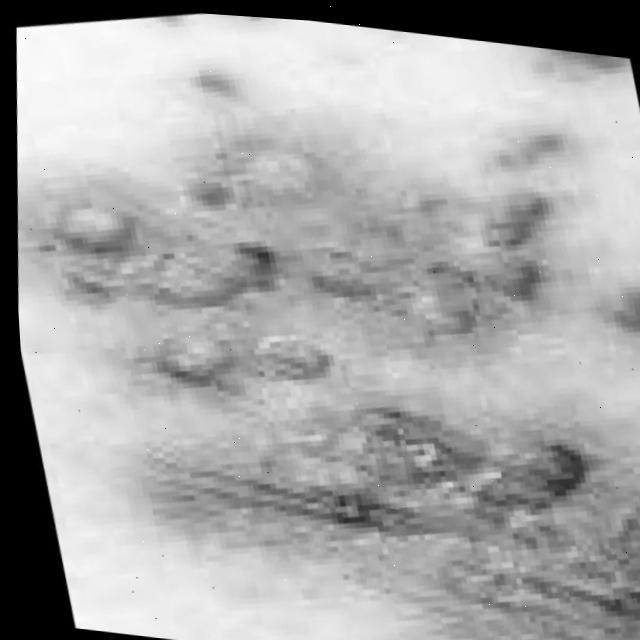Shingles: (31, 2, 640, 640)
